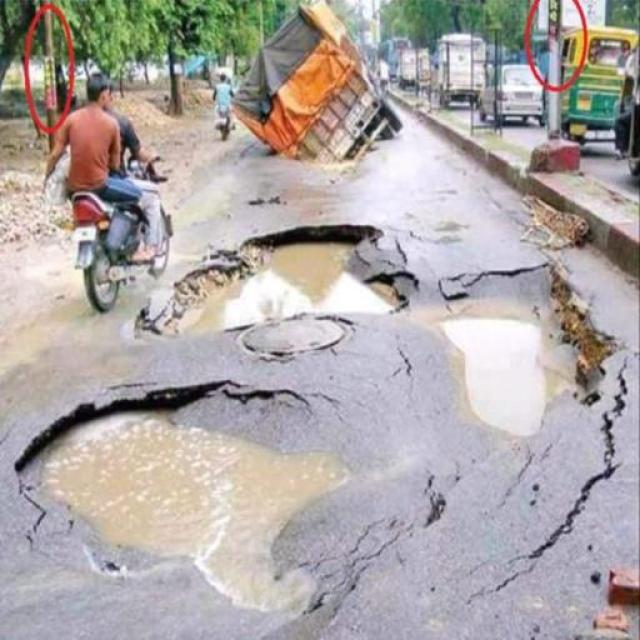puddle: (81, 409, 281, 577), (452, 316, 556, 444), (207, 246, 377, 317)
